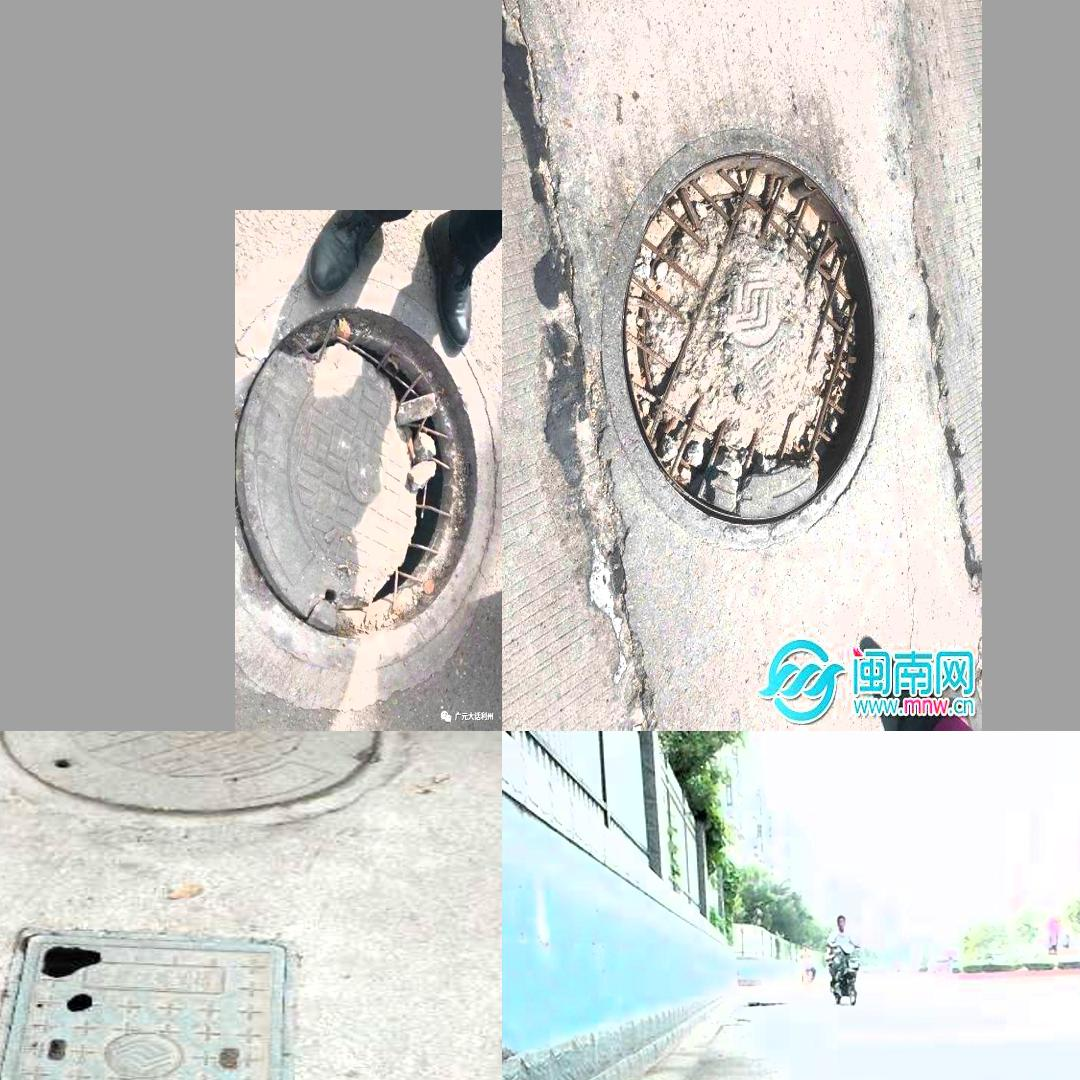broke: (585, 133, 899, 539), (238, 284, 494, 692), (0, 932, 301, 1080)
